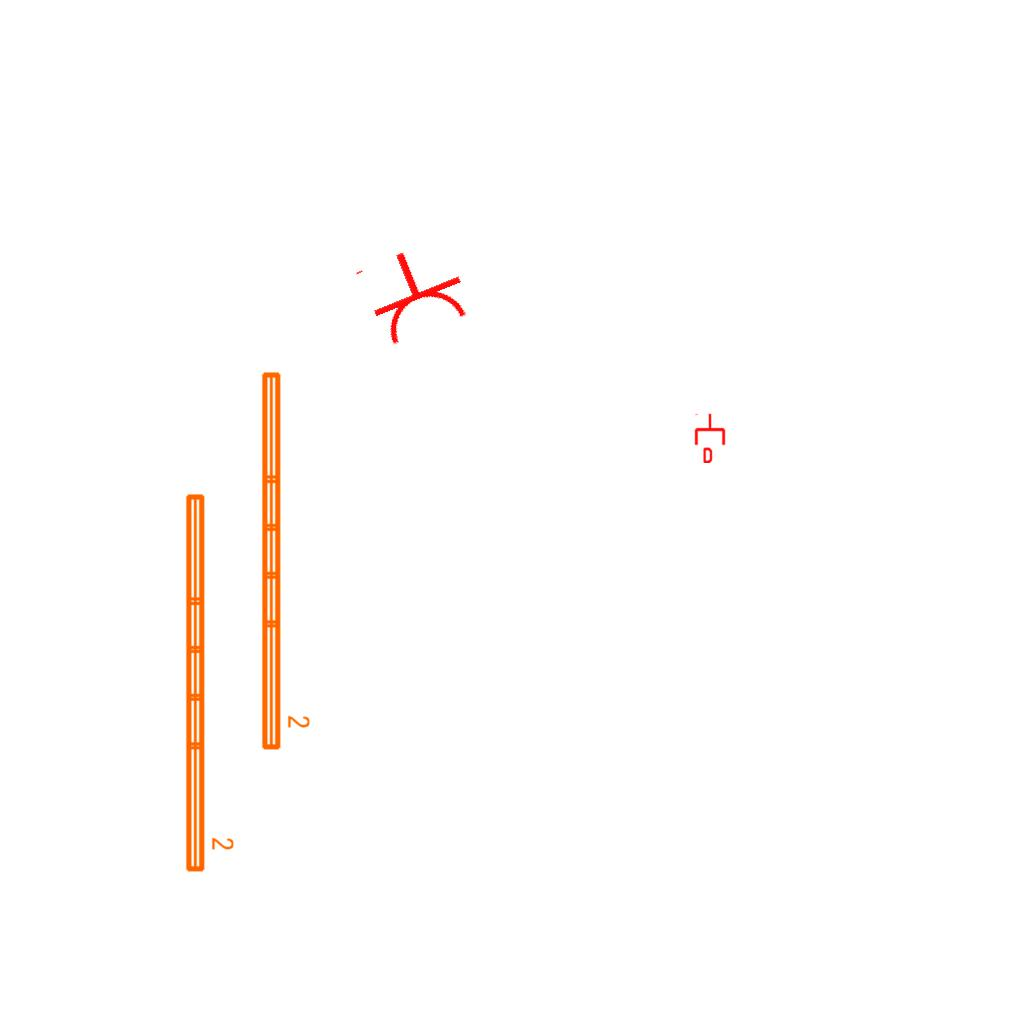Ambulanz_Pendelleuchte_LED: (256, 367, 312, 754), (180, 489, 236, 876)
Datenanschluss_einfach: (693, 413, 727, 463)
Schukosteckdose_einfach: (350, 233, 477, 353)
